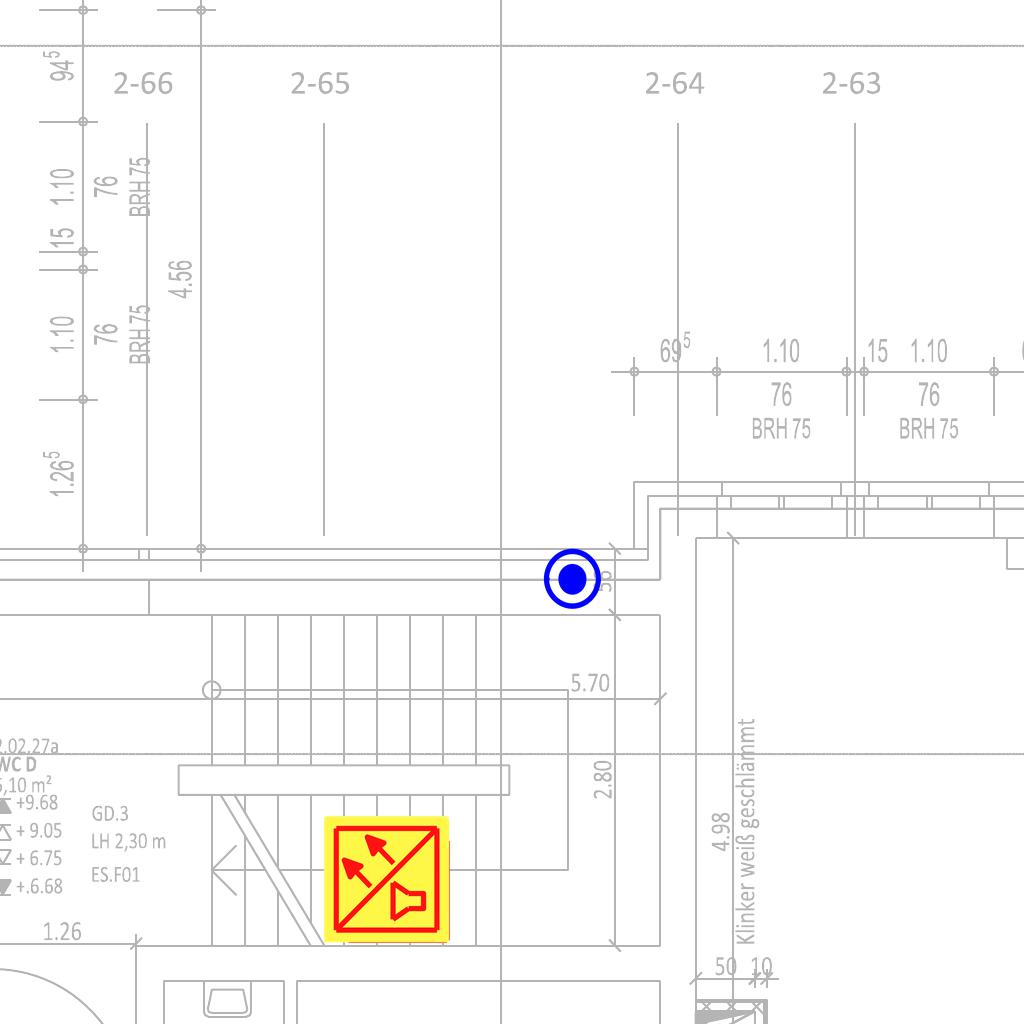OKW_Multisensormelder_(Kombination_optischer_Rauch-Kahlenmonoxid_Waerme-Melder): (321, 813, 453, 945)
Taster: (537, 546, 603, 612)
